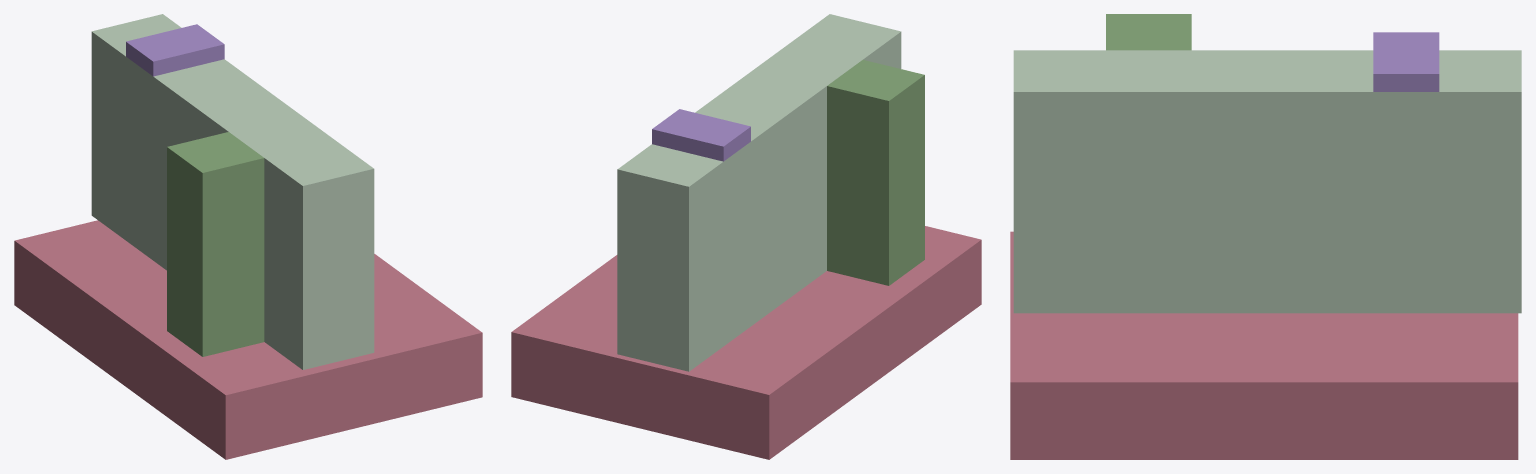
The picture shows the model from 3 angles, left to right: view 1: azimuth 30°, elevation 25°; view 2: azimuth 150°, elevation 25°; view 3: azimuth 270°, elevation 25°; orthographic projection. The views are drawn at different scales.
Visible parts, largest first — view 1: world; view 2: world; view 3: world.
Boxes of the visible parts, x1,y1,x2,y2 form: world: (14, 14, 482, 459); world: (511, 14, 981, 459); world: (1010, 14, 1521, 459).
Size of the model in its own units: 5.4 by 5.4 by 7.75.
